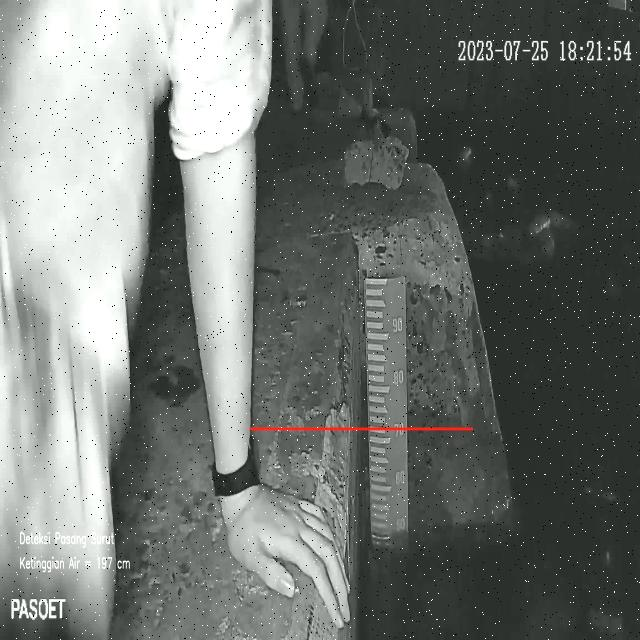60: (394, 468, 406, 487)
80: (394, 368, 404, 386)
90: (392, 317, 403, 335)
staff: (364, 277, 409, 531)
